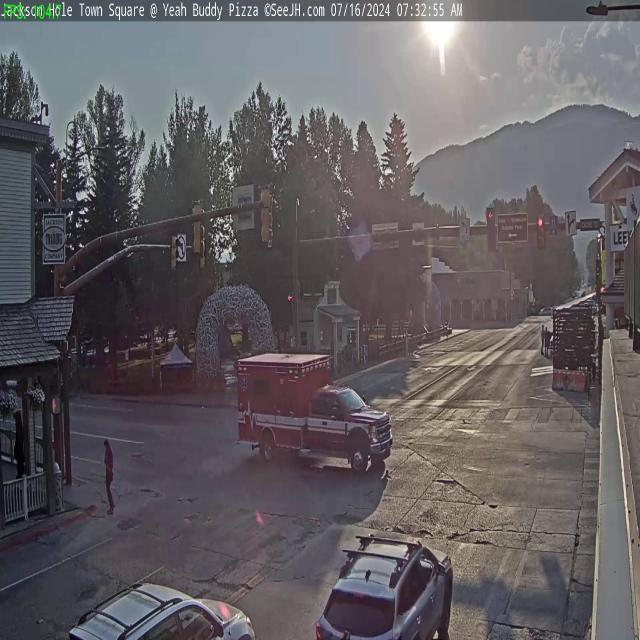person: (104, 431, 118, 517), (544, 325, 550, 359), (540, 324, 546, 356)
suv: (313, 530, 456, 640), (64, 576, 266, 640)
traffic light: (260, 185, 274, 245), (190, 200, 204, 256), (486, 208, 496, 254), (170, 234, 180, 276), (536, 215, 545, 248)
truck: (232, 348, 402, 489)
